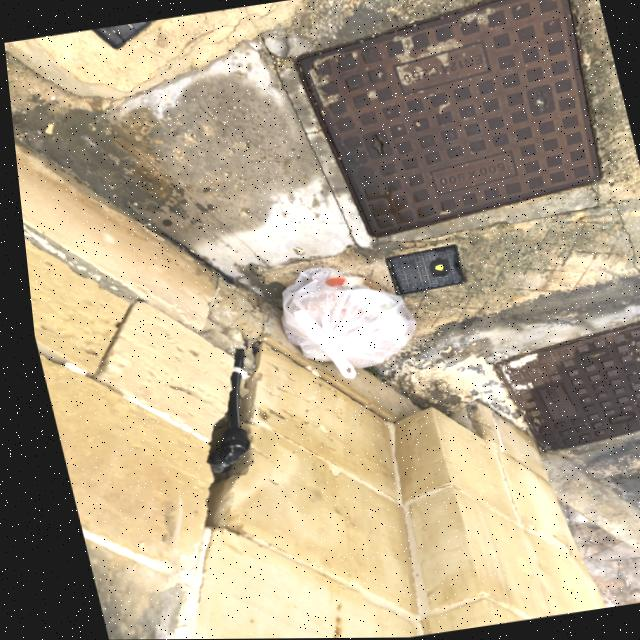Organic Waste -White Bag-: (263, 250, 420, 384)
